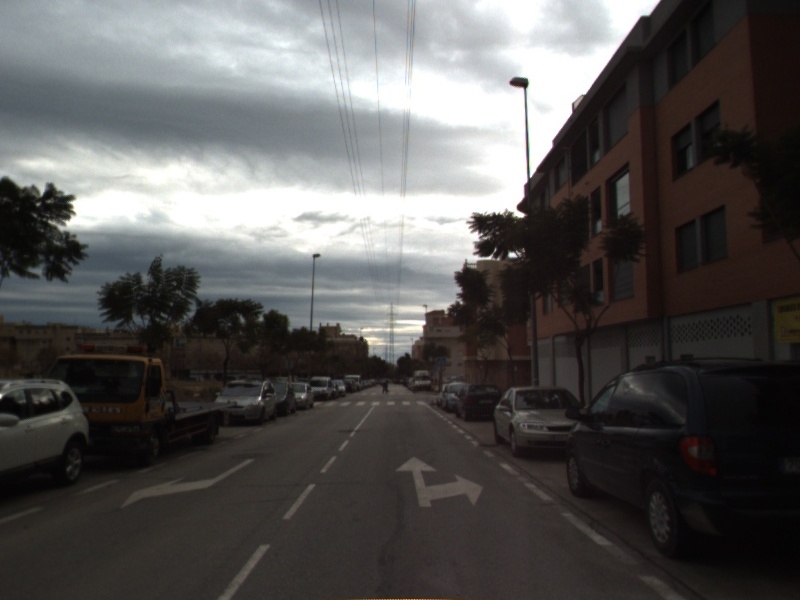STRAIGHT_RIGHT: (393, 454, 487, 509)
